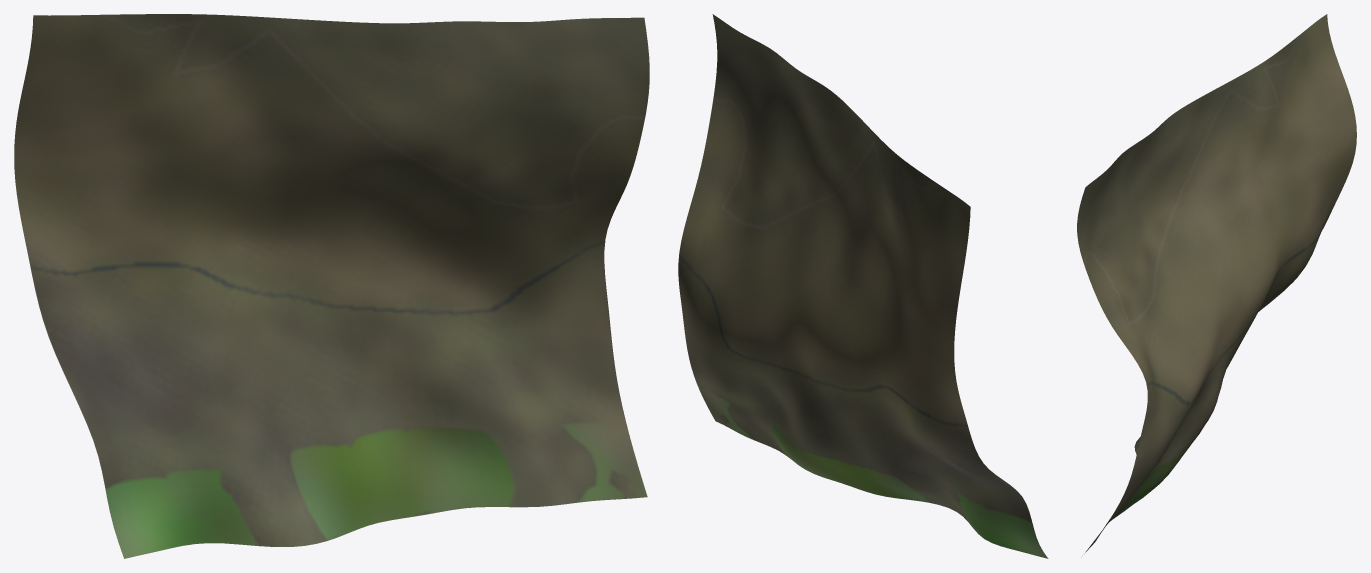
The model's file is ground_mid_06_00.obj.
The picture shows the model from 3 angles, left to right: view 1: azimuth 30°, elevation 25°; view 2: azimuth 150°, elevation 25°; view 3: azimuth 270°, elevation 25°; orthographic projection. The views are drawn at different scales.
Parts seen in each view (by area): view 1: ground_mid_06_00; view 2: ground_mid_06_00; view 3: ground_mid_06_00.
Boxes of the visible parts, x1,y1,x2,y2 form: ground_mid_06_00: (14,14,649,558); ground_mid_06_00: (678,14,1048,558); ground_mid_06_00: (1077,14,1356,552).
Size of the model in its own units: 200 by 200 by 137.
Materials: 1 (1 with a texture image).
